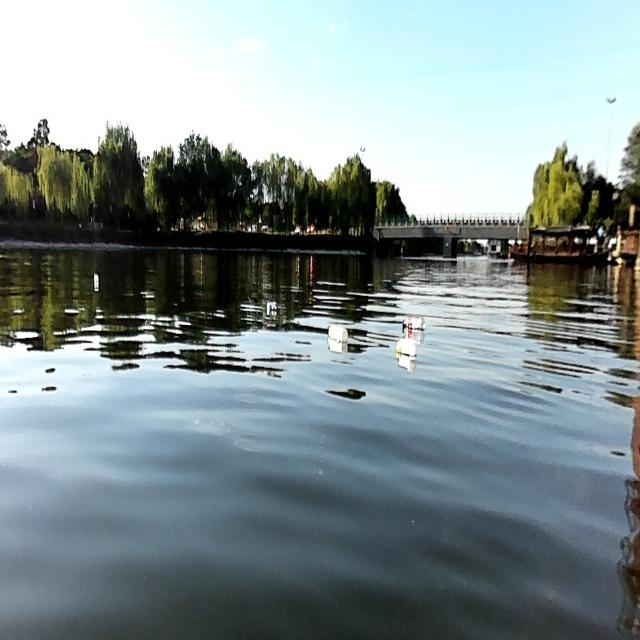bottle: (392, 335, 416, 356), (326, 320, 348, 342), (400, 314, 426, 331), (265, 298, 279, 312)
